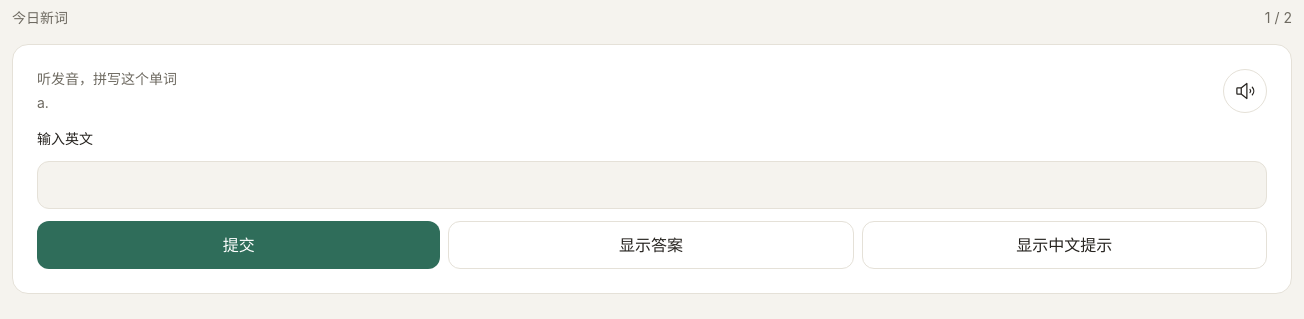
Test: StudySessionPage listening mode › hides both English and Chinese until hint or reveal
The width and height of the screenshot is (1304, 319).
Expected: the text "听发音，拼写这个单词" is shown, x1=37 y1=70 x2=177 y2=87
Expected: the text "精确的" is not shown
What coordinates should you click on to do the following:
click the button "显示中文提示"
I would click on:
 (1064, 245)
Its box is x1=862 y1=221 x2=1267 y2=269.
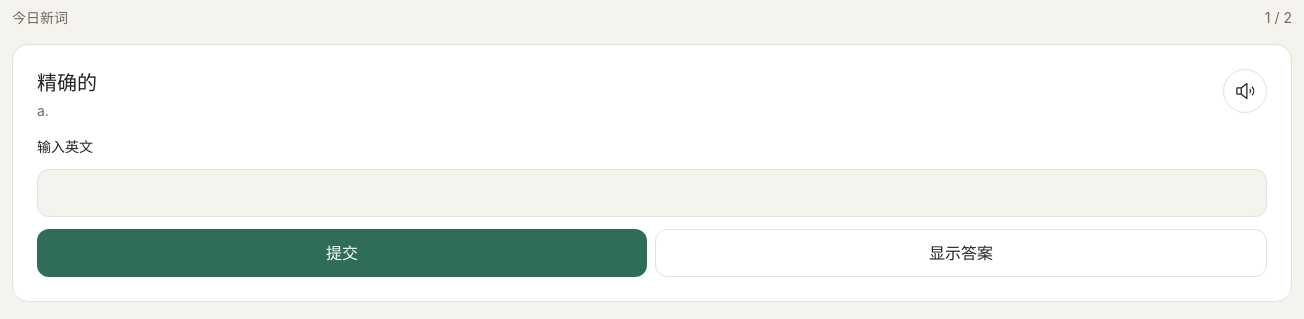
Result: the list item "精确的" is shown at x1=37 y1=71 x2=97 y2=95
